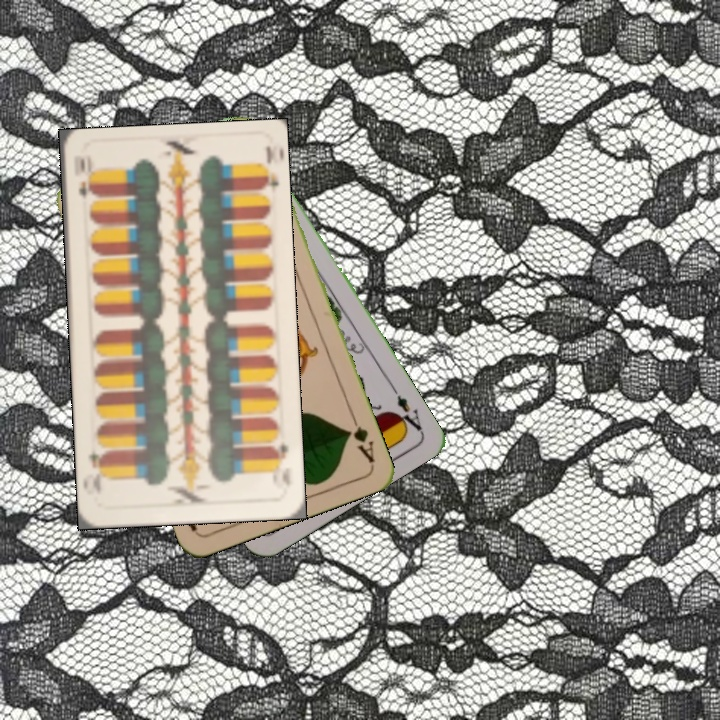E10: (75, 153, 96, 199), (267, 439, 292, 473)
EA: (387, 382, 425, 435)
GA: (342, 410, 377, 465)
